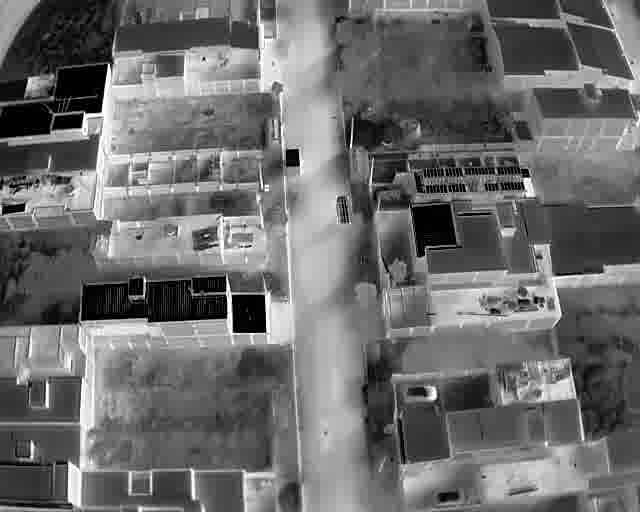car: (400, 383, 438, 404), (434, 486, 471, 506), (335, 192, 351, 224)
